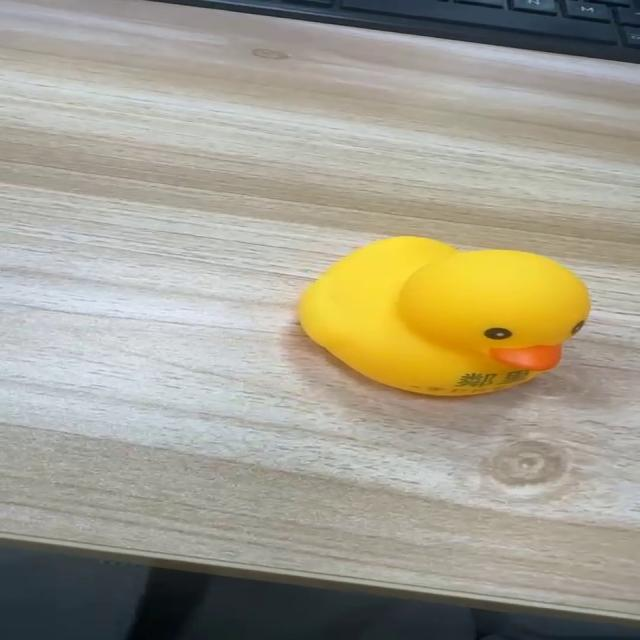yellow_duck: (294, 234, 591, 397)
